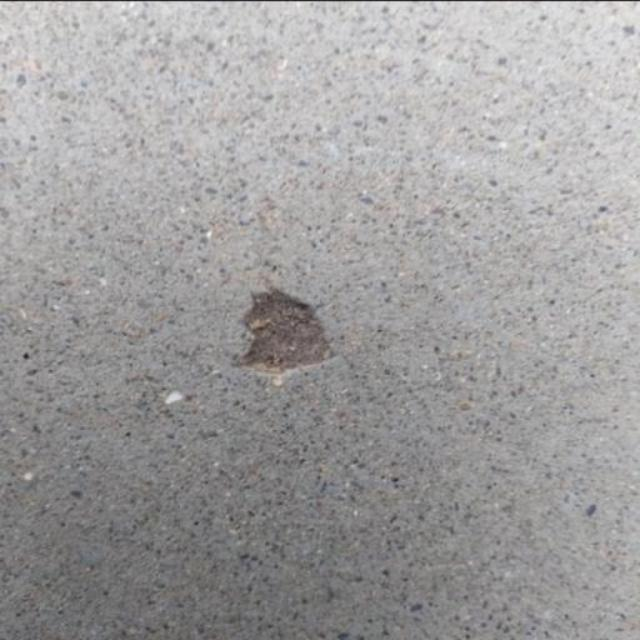D10: (238, 290, 333, 372)
